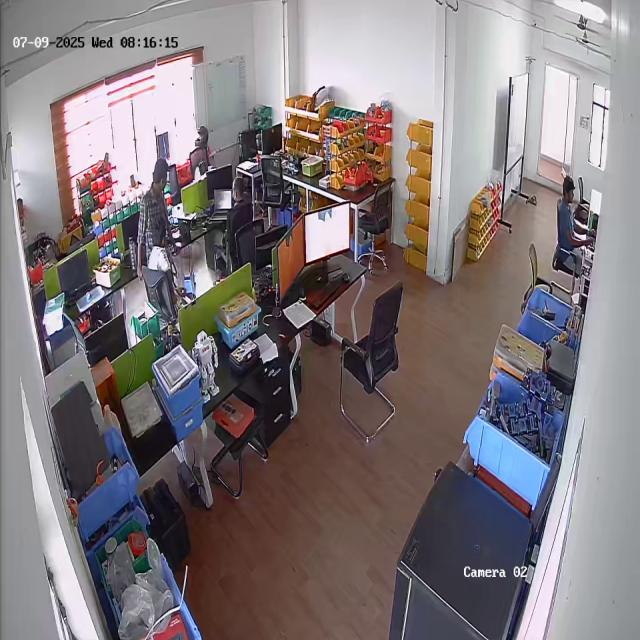person: (137, 156, 174, 266), (556, 176, 590, 277), (216, 175, 253, 234)
